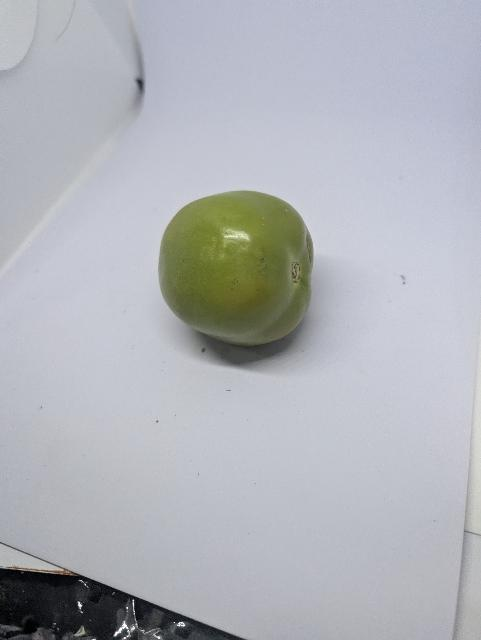green: (159, 190, 316, 347)
